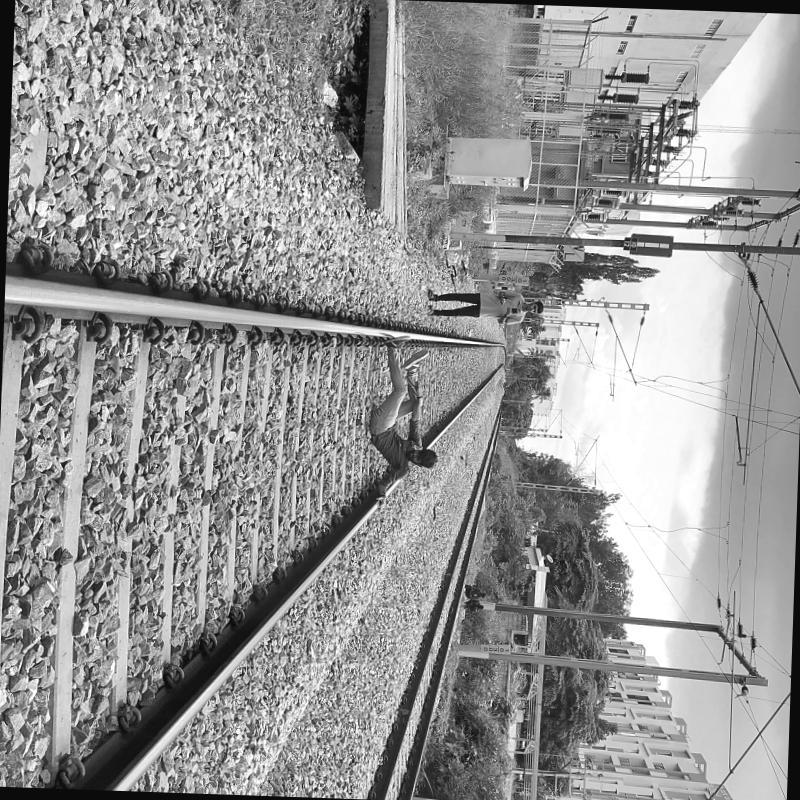sleeping: (364, 334, 442, 514)
